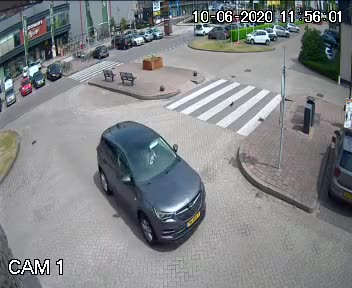car: (84, 123, 215, 236), (191, 20, 211, 40)
